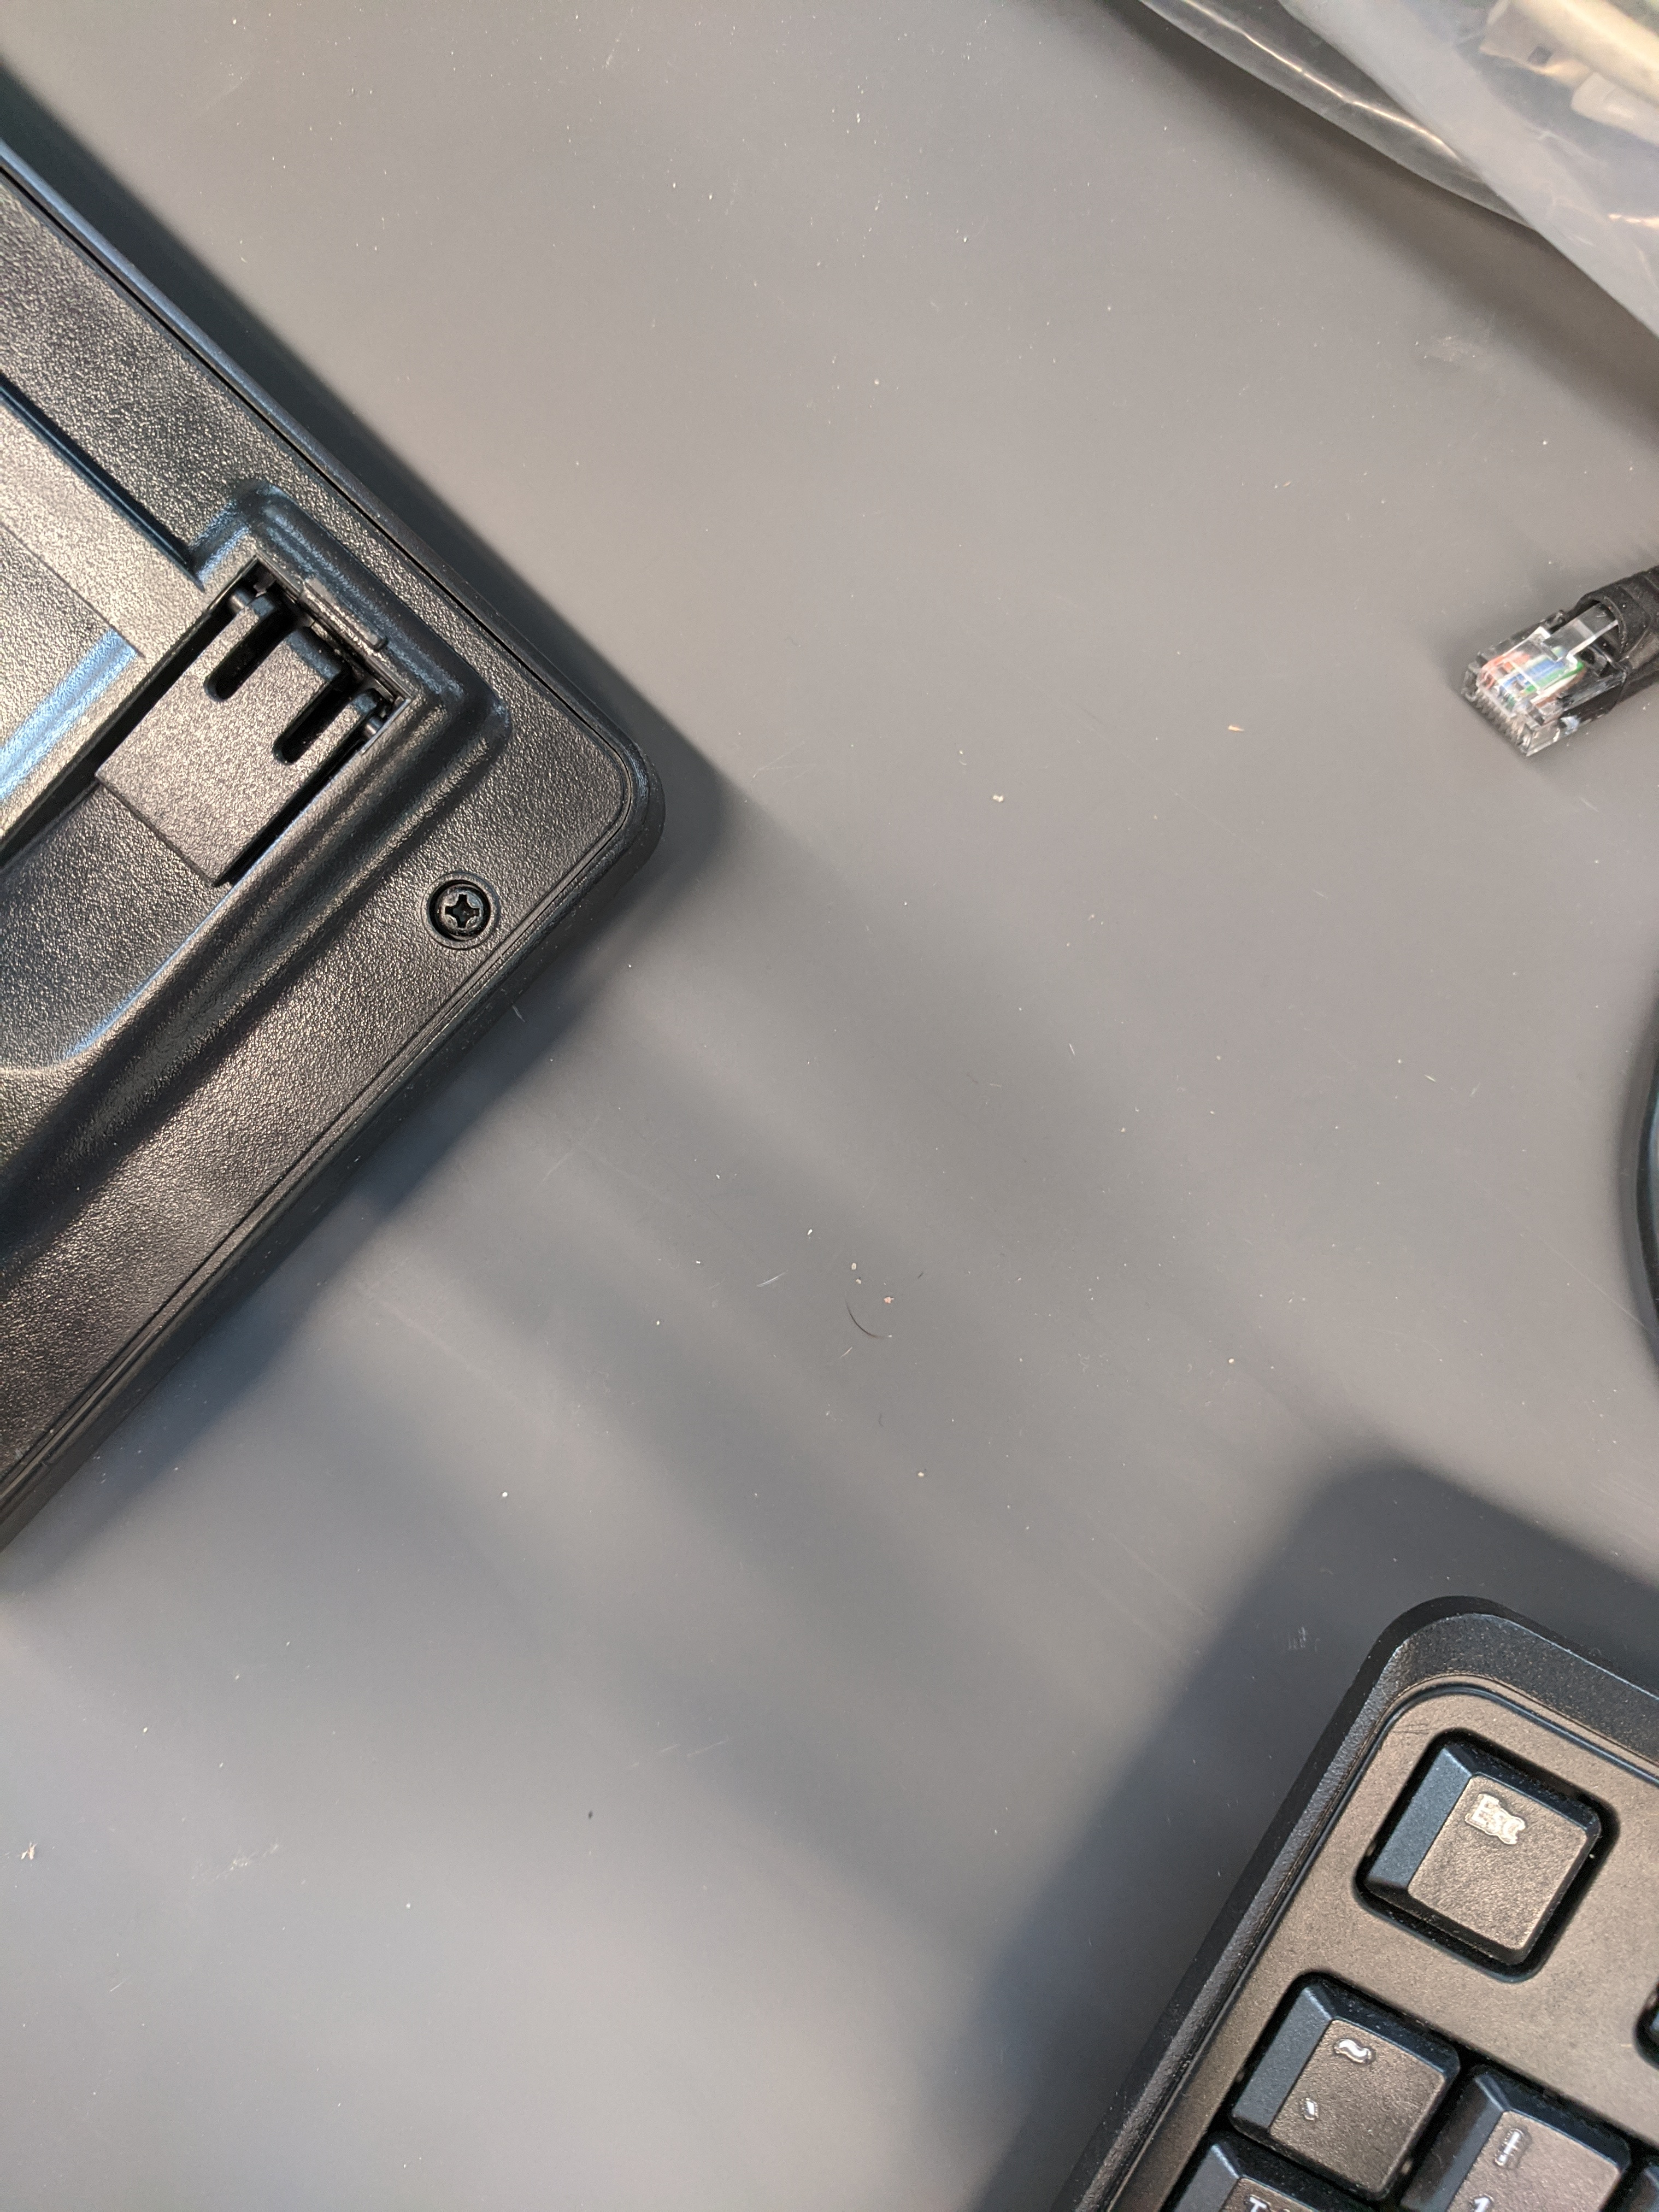cross_recessed_screw: (415, 866, 497, 948)
